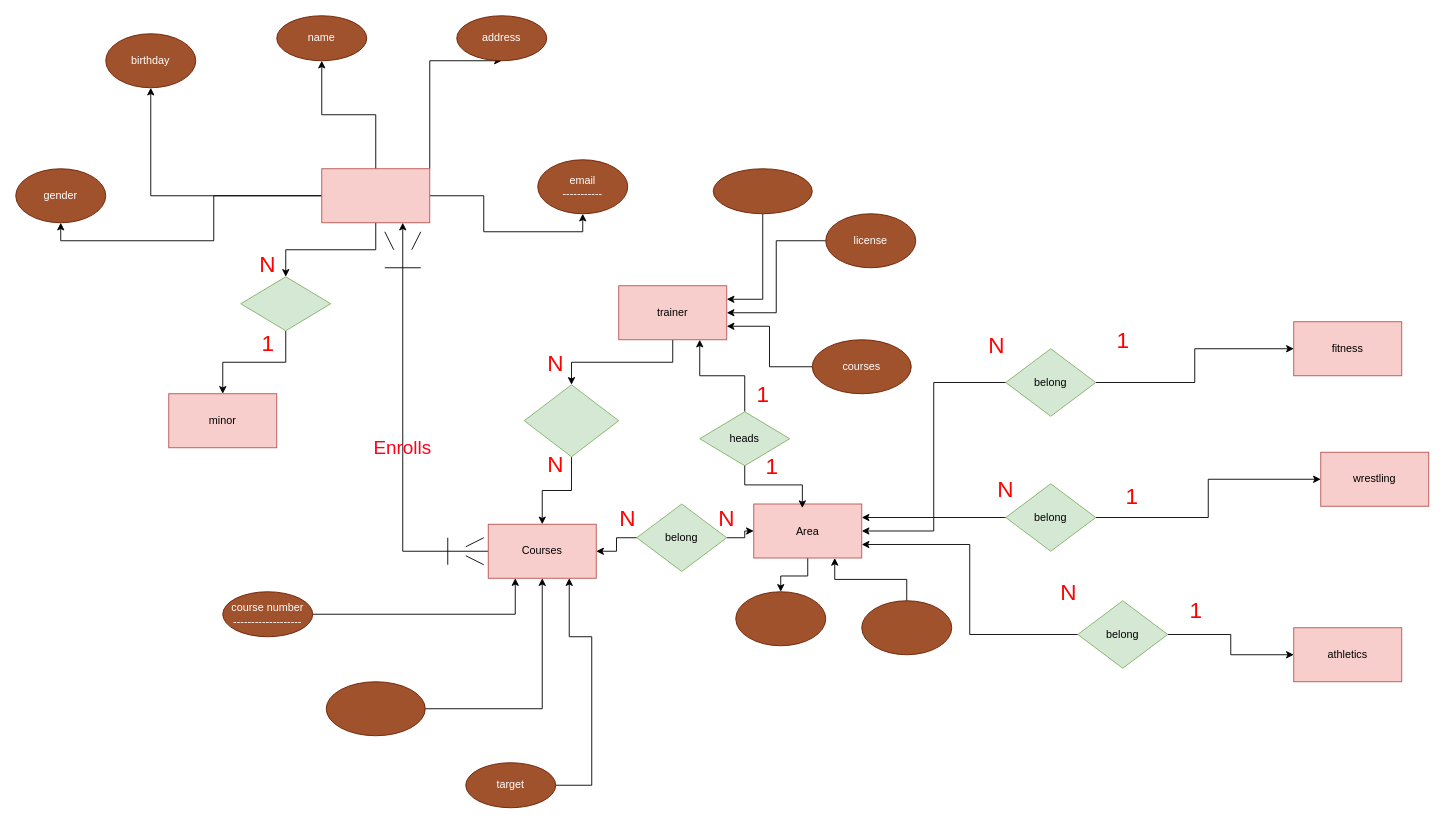
The diagram is 1445 pixels wide and 824 high, and some of its shapes have lost their labels. The shapes that lost their labels are listed below. From the top down, each one's centre as x and y in pixels, then its label:
At point 375,195: "Member".
At point 762,191: "name ------------".
At point 285,303: "parent".
At point 571,420: "teaches".
At point 780,618: "name ---------------".
At point 906,627: "description".
At point 375,708: "title".
